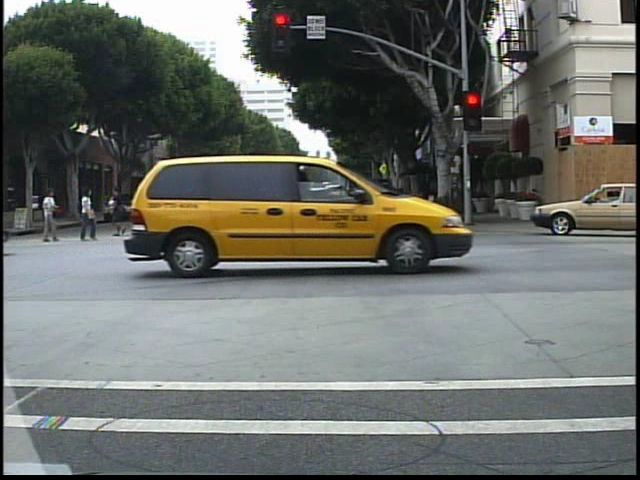person: (285, 169, 312, 237), (156, 172, 182, 240), (71, 185, 101, 243), (218, 179, 245, 237), (36, 189, 61, 246), (108, 185, 132, 239), (182, 183, 205, 237)
